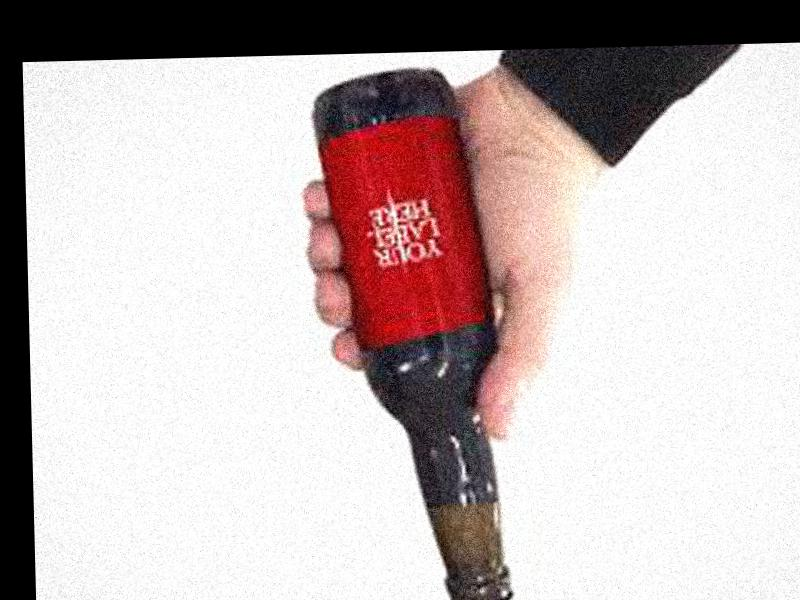Beer: (309, 68, 518, 600)
